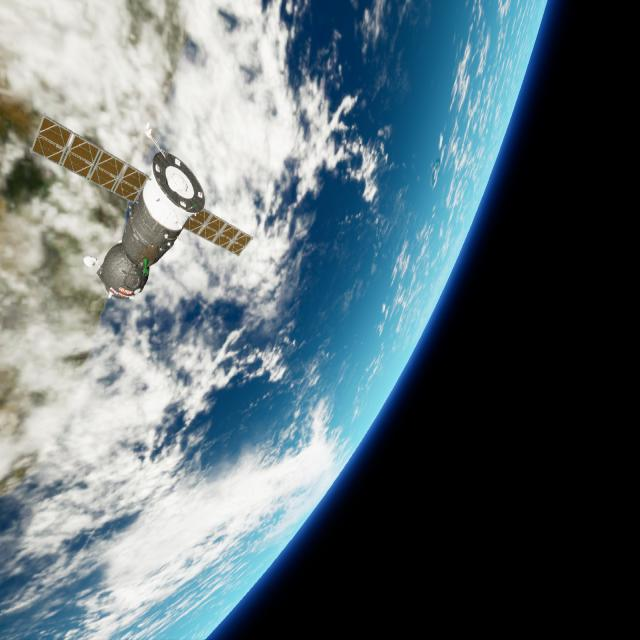Satellites revolving around earth: (28, 112, 254, 302)
